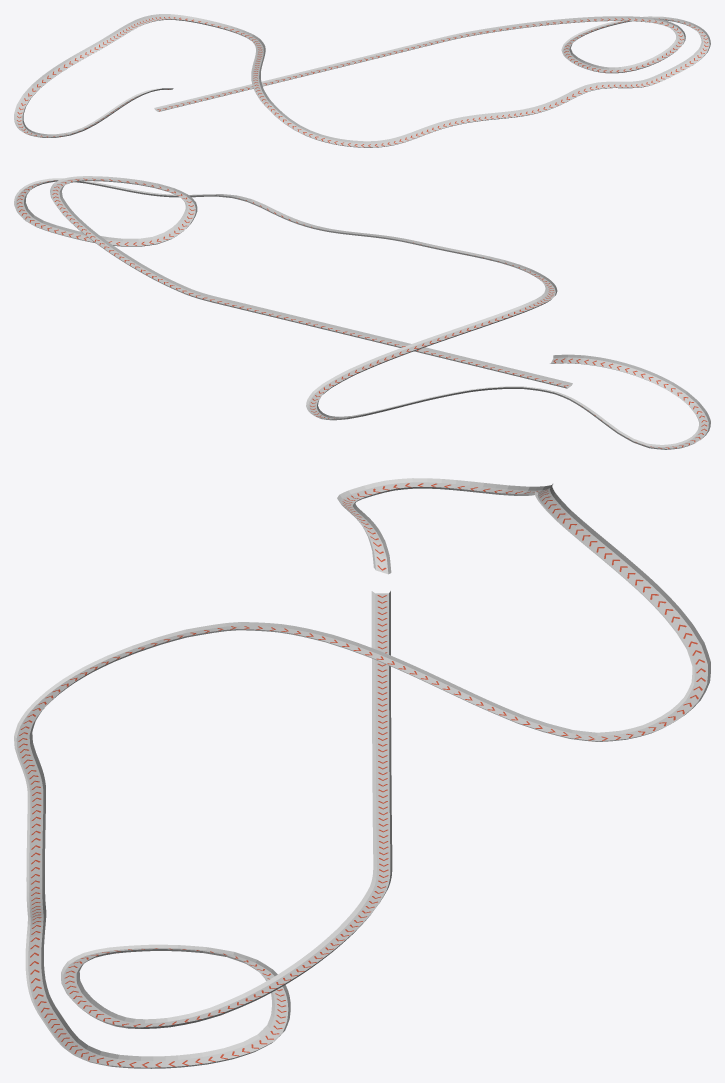
File: track.fbx
3 renders of one model, top to bottom at view 1: azimuth 30°, elevation 25°; view 2: azimuth 150°, elevation 25°; view 3: azimuth 270°, elevation 25°, orthographic. The views are drawn at different scales.
Visible parts, largest first — view 1: track; view 2: track; view 3: track.
Boxes of the visible parts, <box> form: track: <box>14,14,710,147</box>; track: <box>14,176,710,449</box>; track: <box>14,478,710,1068</box>.
Bounding box in the file's own units: 4990 × 371 × 2478.
